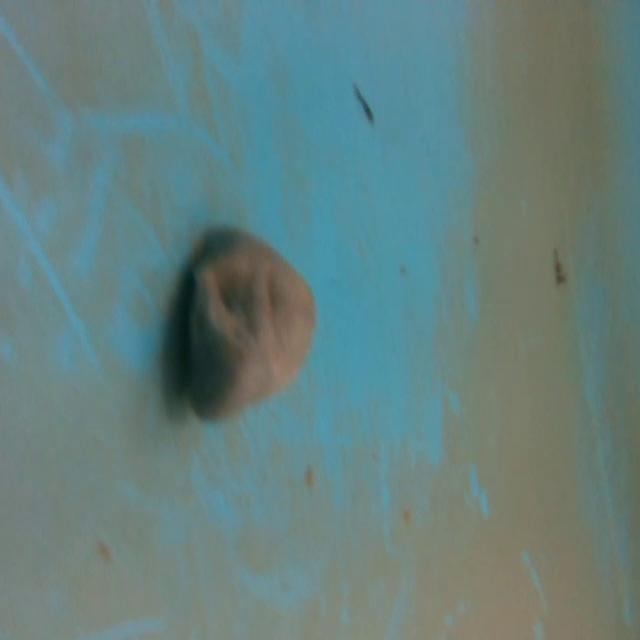rock: (172, 211, 323, 430)
